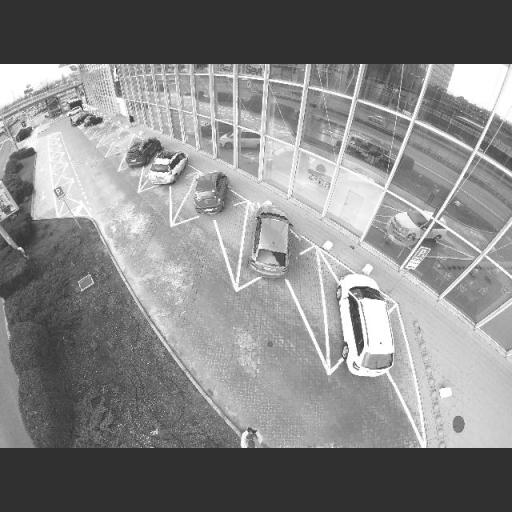busy: (339, 278, 400, 382), (244, 204, 304, 279), (187, 172, 234, 214), (146, 147, 188, 186), (122, 137, 160, 167), (83, 113, 104, 130), (72, 110, 90, 126)
free: (111, 136, 132, 152), (98, 129, 116, 143)
